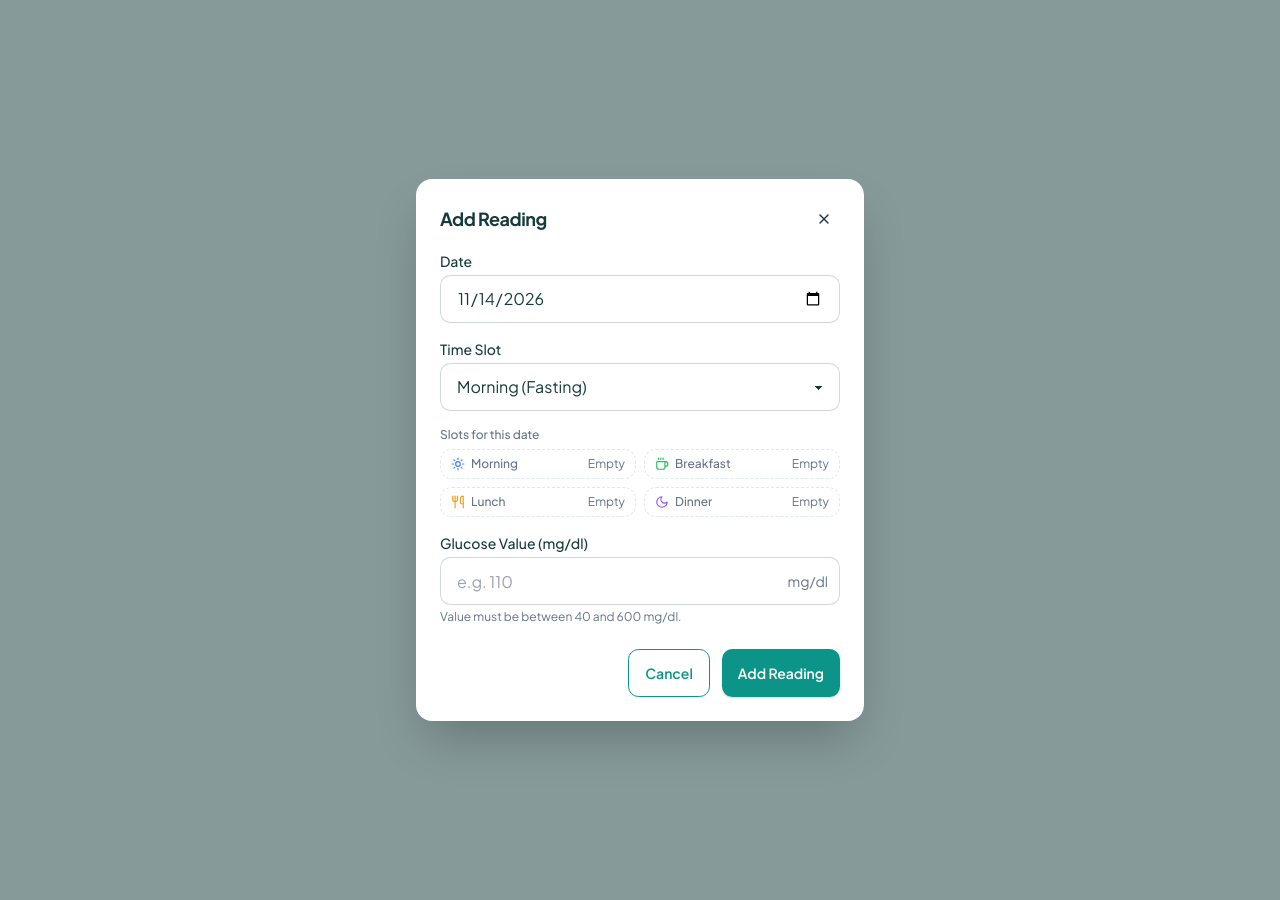
Test: ReadingFormModal › requires a glucose value
Click the button "Add Reading".
click(781, 673)  # box 722,649 -> 840,697
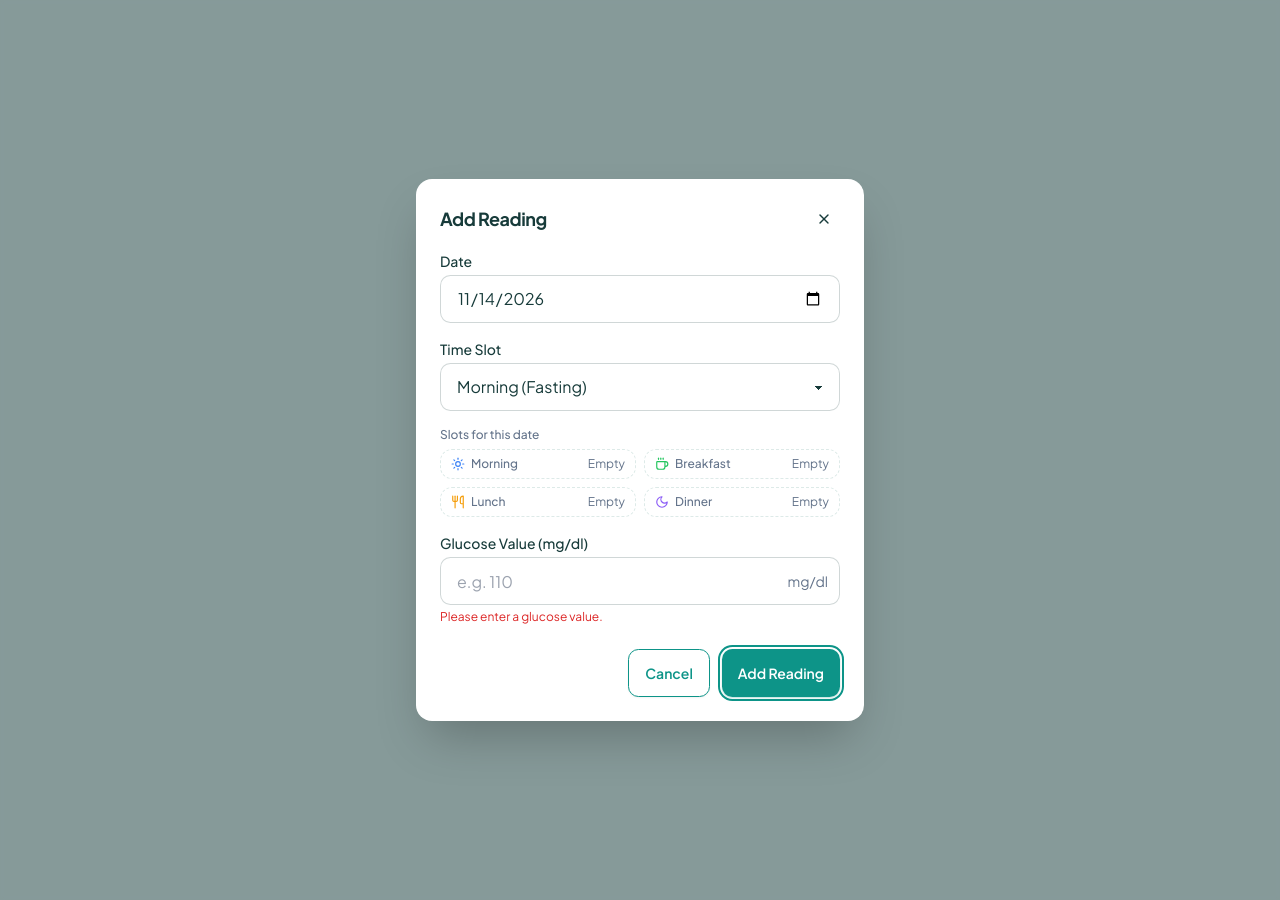
Now the text "Please enter a glucose value." is shown, box 440,609 -> 603,624
